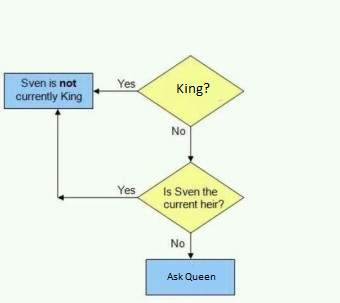arrow: (52, 107, 62, 194), (55, 193, 138, 201), (91, 86, 141, 95), (186, 123, 196, 164), (186, 231, 195, 261)
decision: (136, 54, 245, 128), (136, 162, 245, 234)
process: (144, 257, 237, 298), (2, 71, 96, 111)
text: (14, 77, 85, 103), (161, 185, 226, 210), (164, 271, 216, 282), (175, 82, 210, 96), (116, 182, 135, 195), (116, 77, 136, 88), (169, 238, 186, 249), (171, 125, 187, 136)
